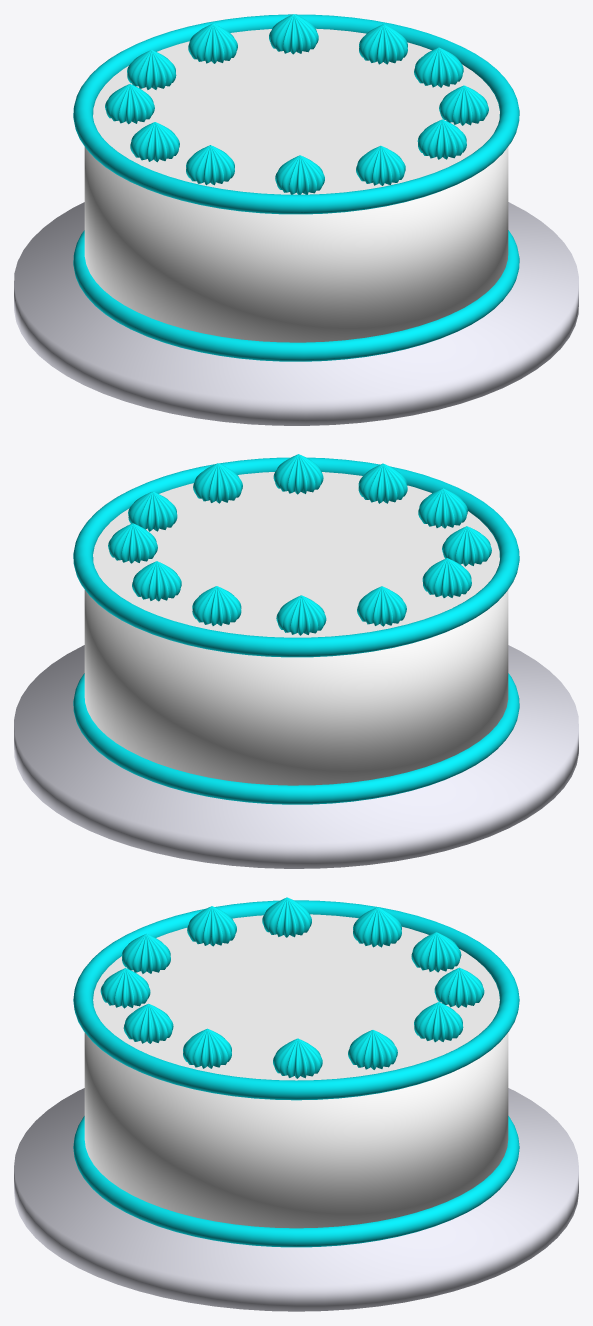
Rendered from round_vanilla_style1.glb.
The picture shows the model from 3 angles, top to bottom: view 1: azimuth 30°, elevation 25°; view 2: azimuth 150°, elevation 25°; view 3: azimuth 270°, elevation 25°; orthographic projection.
Parts seen in each view (by area): view 1: CakeBase, IcingStand, CakeTopCircle, IcingRing, IcingRing.001, design7, design6, design4, design10, design2, design1, design12 (+5 smaller); view 2: CakeBase, IcingStand, CakeTopCircle, IcingRing, IcingRing.001, design2, design1, design5, design9, design8, design3, design10 (+5 smaller); view 3: CakeBase, IcingStand, CakeTopCircle, IcingRing, IcingRing.001, design2, design11, design10, design7, design6, design5, design3 (+5 smaller).
Boxes of the visible parts, box(x1,y1,x2,y2) form: CakeBase: box(84, 147, 508, 342); IcingStand: box(14, 202, 578, 425); CakeTopCircle: box(93, 28, 499, 194); IcingRing: box(73, 14, 519, 214); IcingRing.001: box(73, 230, 519, 361); design7: box(186, 145, 234, 185); design6: box(127, 50, 176, 89); design4: box(414, 47, 463, 87); design10: box(105, 84, 154, 124); design2: box(356, 145, 405, 185); design1: box(188, 23, 237, 63); design12: box(275, 155, 324, 194); CakeBase: box(84, 590, 508, 785); IcingStand: box(14, 645, 578, 868); CakeTopCircle: box(93, 472, 499, 637); IcingRing: box(73, 457, 519, 657); IcingRing.001: box(73, 673, 519, 804); design2: box(358, 463, 407, 503); design1: box(192, 586, 241, 625); design5: box(273, 454, 323, 494); design9: box(193, 463, 242, 503); design8: box(108, 523, 157, 563); design3: box(422, 558, 471, 597); design10: box(357, 586, 406, 626); CakeBase: box(84, 1032, 508, 1228); IcingStand: box(14, 1088, 578, 1311); CakeTopCircle: box(93, 914, 499, 1080); IcingRing: box(73, 900, 519, 1100); IcingRing.001: box(73, 1116, 519, 1247); design2: box(100, 968, 150, 1008); design11: box(414, 1002, 463, 1042); design10: box(353, 907, 401, 947); design7: box(187, 906, 236, 946); design6: box(411, 932, 461, 972); design5: box(123, 1003, 173, 1043); design3: box(262, 897, 311, 937).
Bounding box in the file's own units: 4 × 1.75 × 4.
